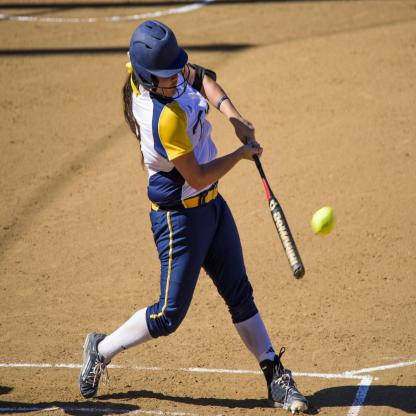Helmet: (122, 24, 189, 92)
